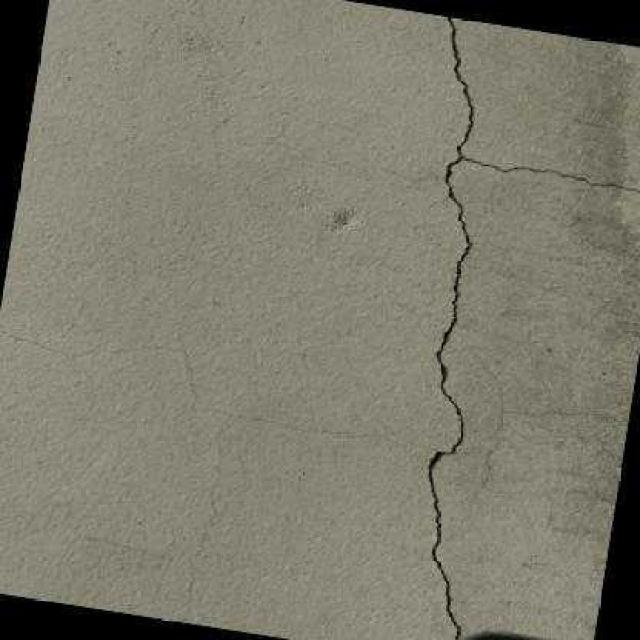D00: (425, 16, 640, 640)
